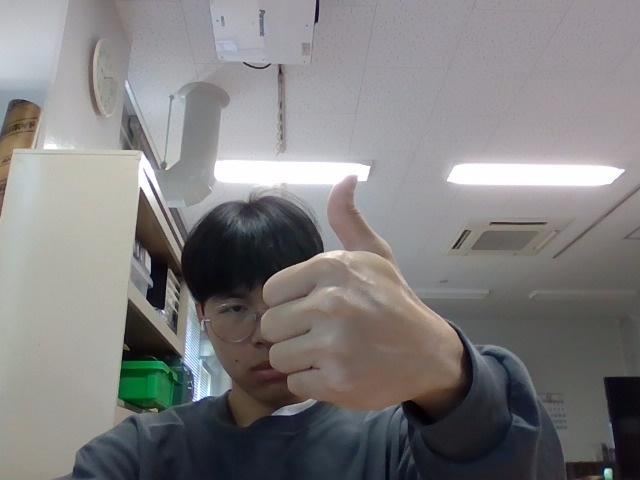thumbs-up: (250, 174, 472, 414)
